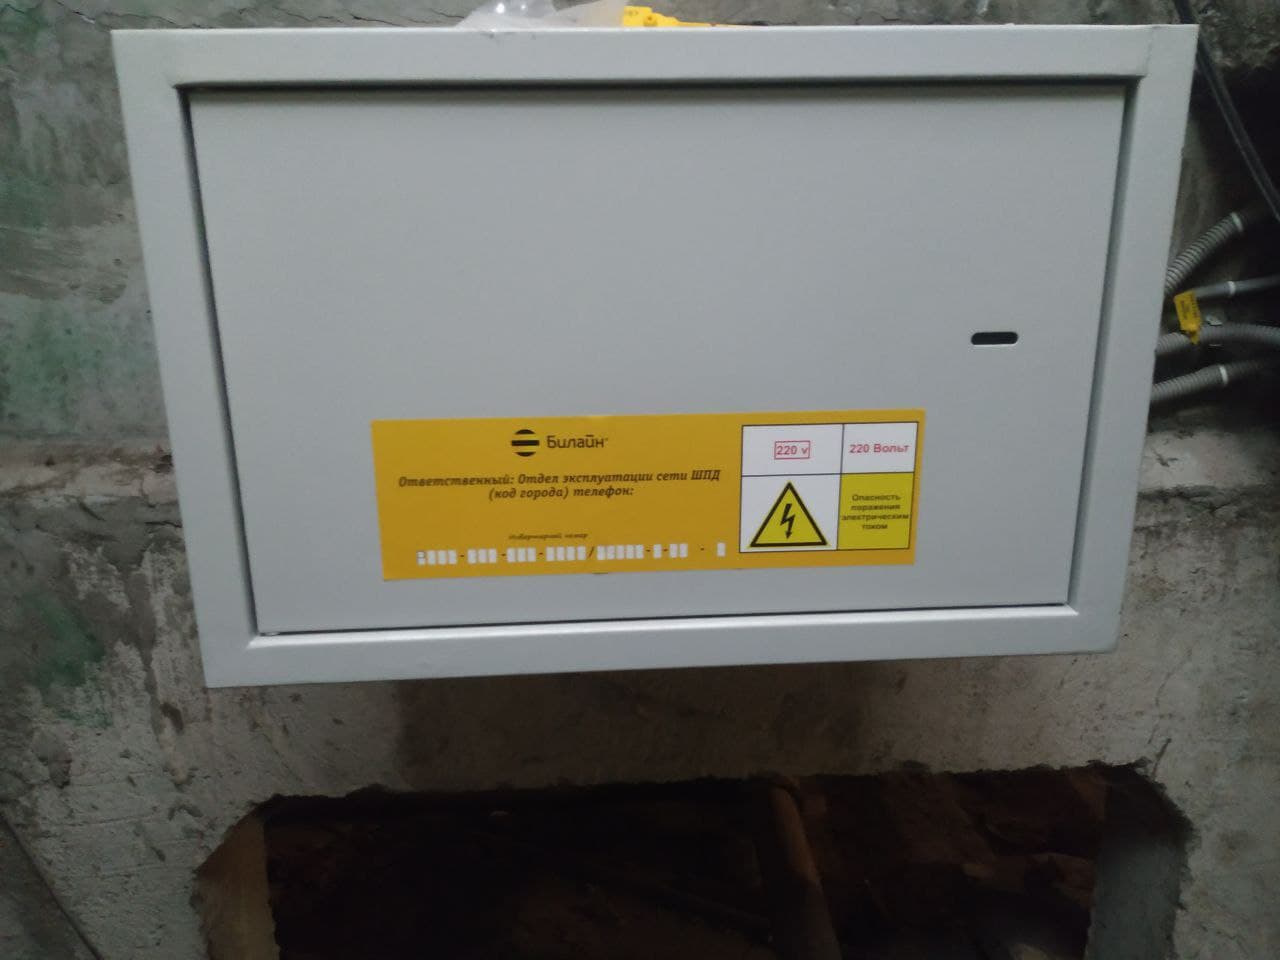shta-7m: (95, 12, 1215, 699)
